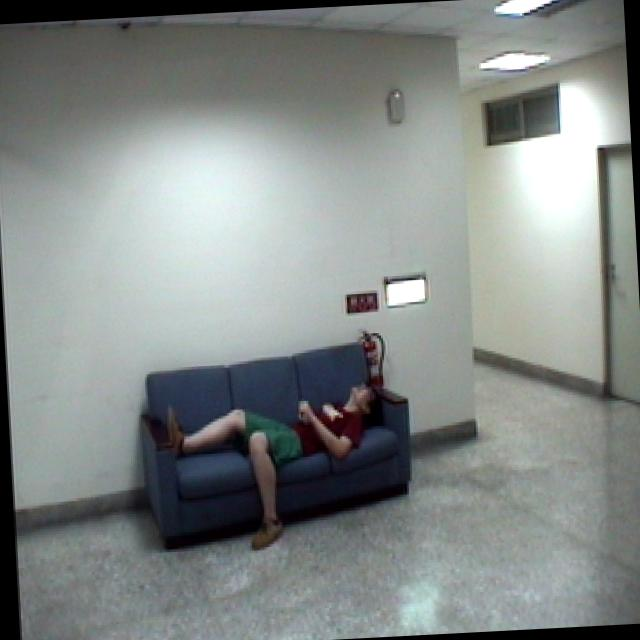lie: (156, 368, 390, 557)
